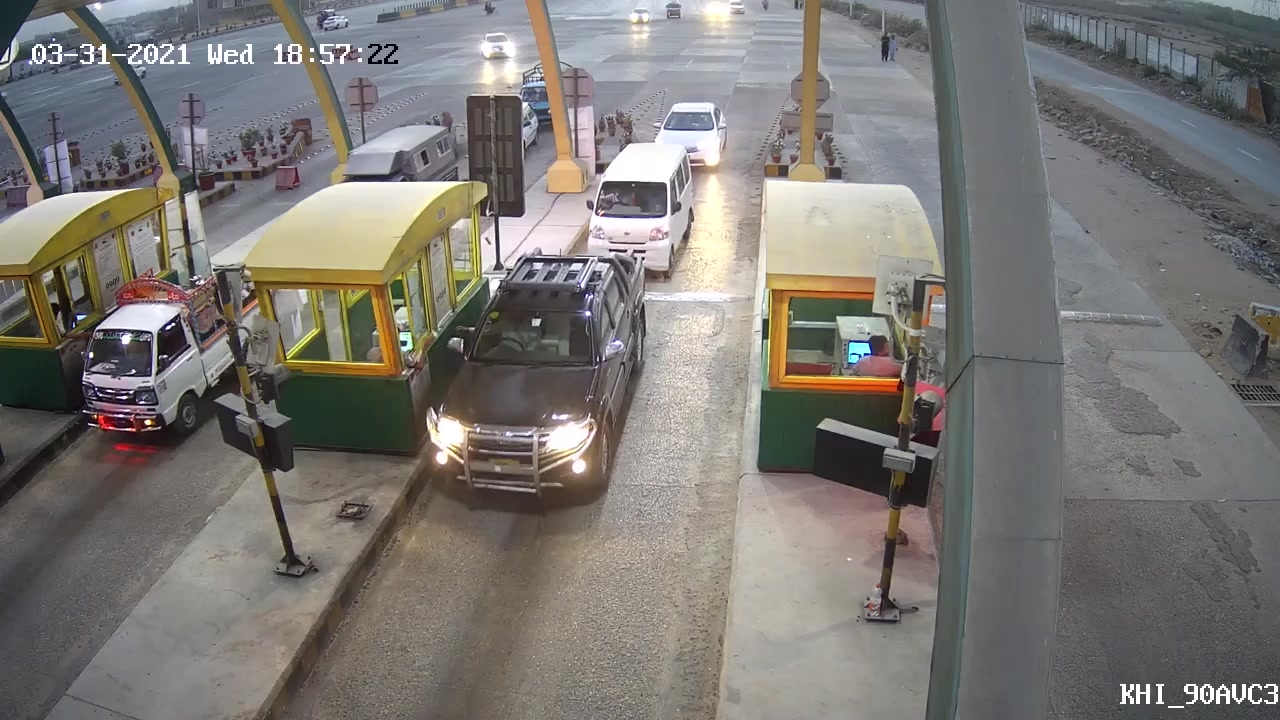F1: (416, 248, 655, 512)
